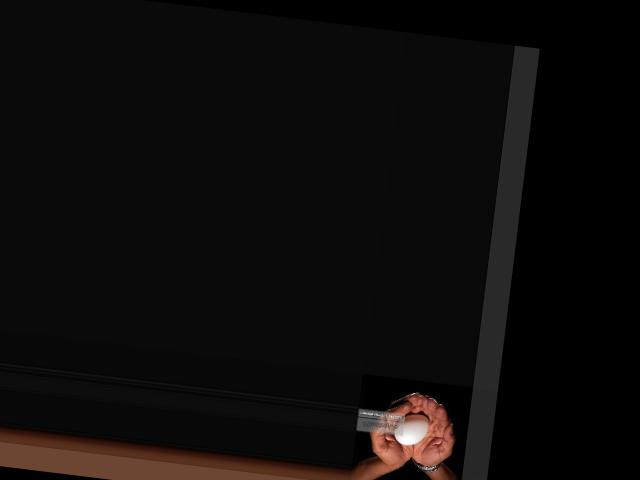egg: (394, 411, 431, 446)
